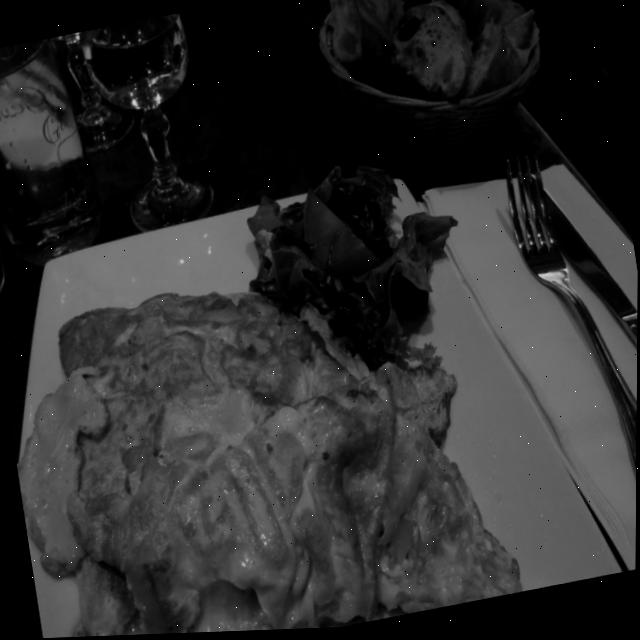鸡蛋料理: (0, 205, 548, 640)
